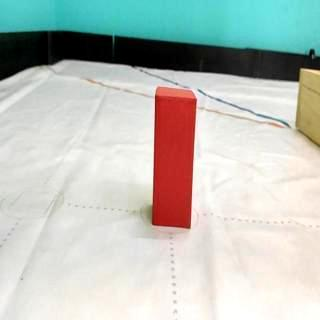redbox: (154, 85, 196, 230)
